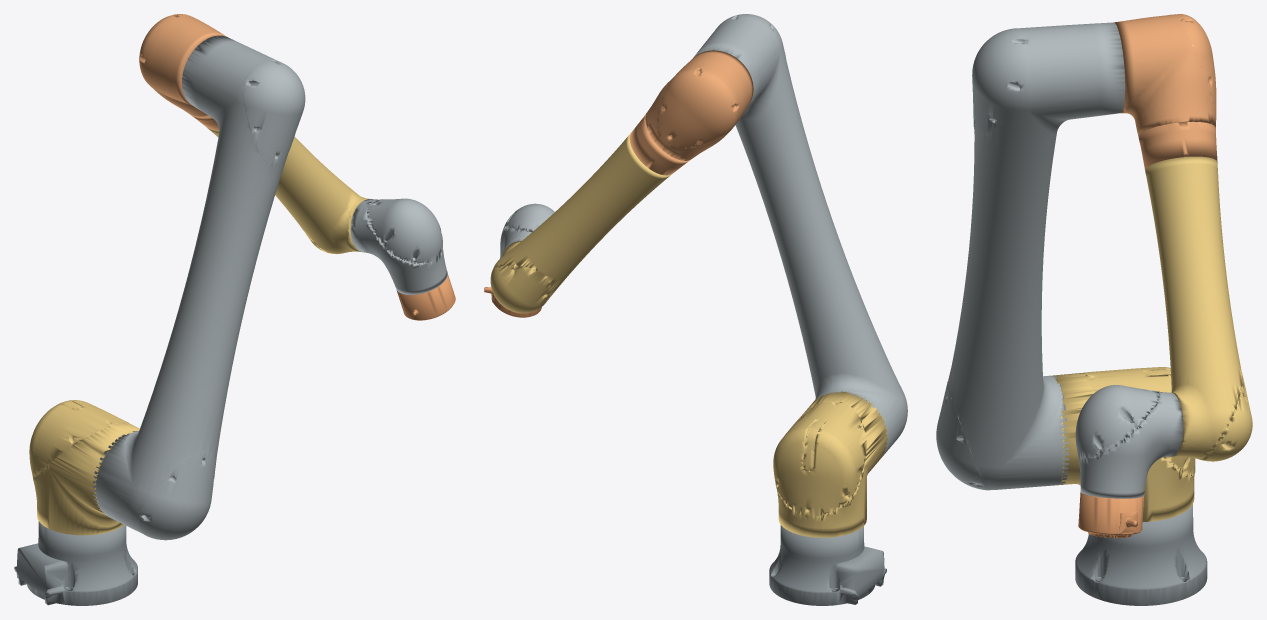
Rendered from fanuc-crx10ial.glb.
3 renders of one model, left to right at view 1: azimuth 30°, elevation 25°; view 2: azimuth 150°, elevation 25°; view 3: azimuth 270°, elevation 25°, orthographic. The views are drawn at different scales.
Visible parts, largest first — view 1: link_2 visual, link_1 visual, base_link visual, link_5 visual, link_4 visual, link_3 visual, link_6 visual; view 2: link_2 visual, link_1 visual, link_4 visual, link_3 visual, base_link visual, link_5 visual; view 3: link_2 visual, link_4 visual, link_3 visual, link_5 visual, base_link visual, link_1 visual, link_6 visual.
Boxes of the visible parts, box(x1,y1,x2,y2) form: link_2 visual: box(92, 35, 305, 540); link_1 visual: box(29, 400, 139, 535); base_link visual: box(14, 521, 137, 605); link_5 visual: box(350, 198, 447, 294); link_4 visual: box(207, 128, 369, 254); link_3 visual: box(139, 14, 226, 130); link_6 visual: box(396, 274, 455, 320); link_2 visual: box(692, 14, 907, 457); link_1 visual: box(773, 391, 888, 537); link_4 visual: box(490, 133, 671, 313); link_3 visual: box(629, 50, 753, 175); base_link visual: box(769, 525, 886, 605); link_5 visual: box(500, 203, 554, 258); link_2 visual: box(936, 22, 1125, 490); link_4 visual: box(1145, 156, 1252, 461); link_3 visual: box(1114, 14, 1217, 170); link_5 visual: box(1075, 385, 1183, 498); base_link visual: box(1075, 504, 1207, 605); link_1 visual: box(1050, 367, 1195, 521); link_6 visual: box(1078, 492, 1143, 538).
Size of the model in its own units: 0.8046 by 0.9893 by 0.4552.
